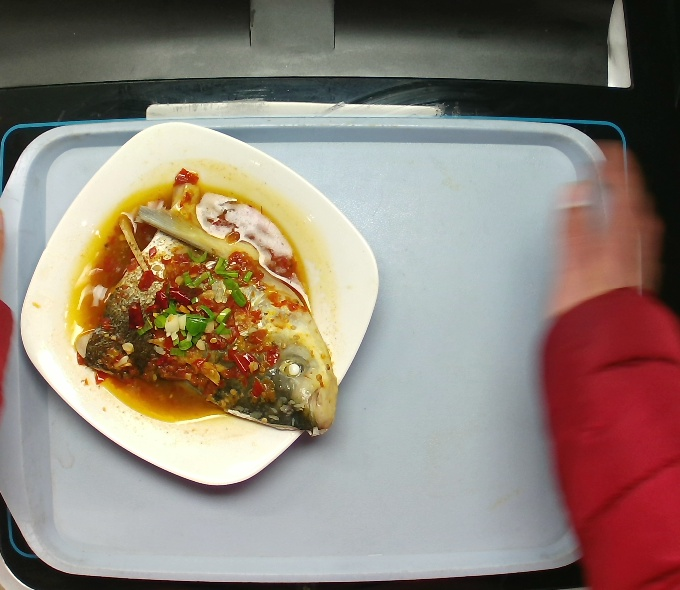wcq-DuoJiaoYuTou: (82, 153, 358, 460)
